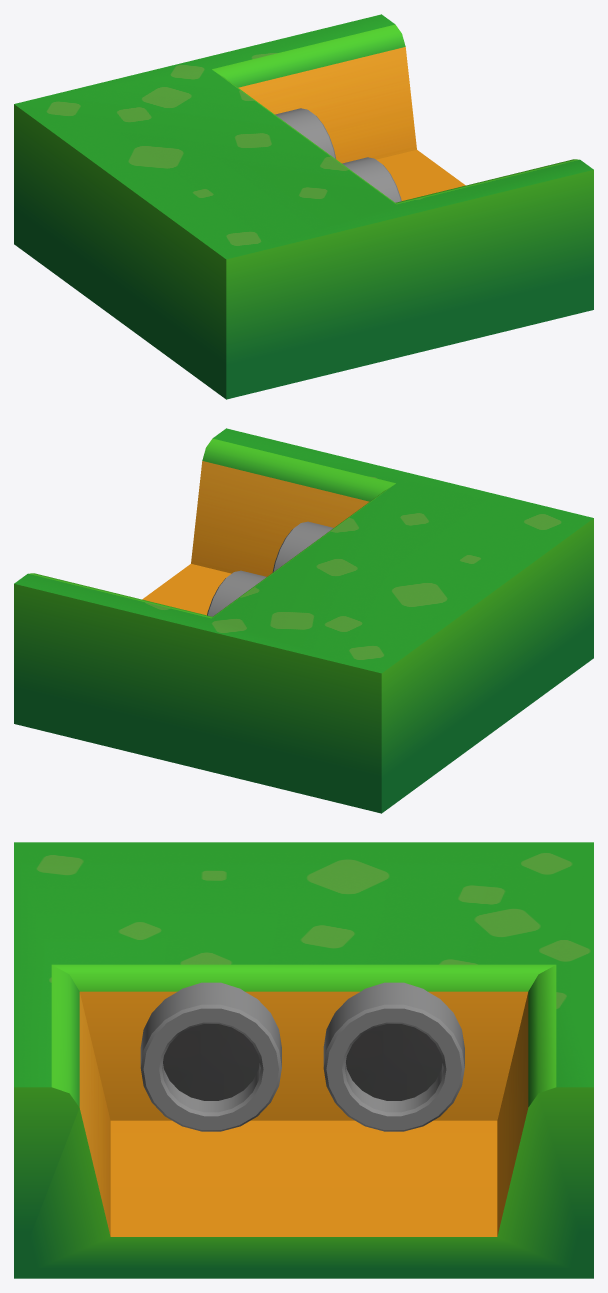
File: RiverTile_4_1.glb
3 views of the same model, one above another, from view 1: azimuth 30°, elevation 25°; view 2: azimuth 150°, elevation 25°; view 3: azimuth 270°, elevation 25° (orthographic). The views are drawn at different scales.
Parts seen in each view (by area): view 1: RiverTile_4_1; view 2: RiverTile_4_1; view 3: RiverTile_4_1.
Part boxes in pixels (x1,y1,x2,y2): RiverTile_4_1: [14, 14, 593, 399]; RiverTile_4_1: [14, 428, 593, 813]; RiverTile_4_1: [14, 842, 593, 1278].
Bounding box in the file's own units: 4 × 1.46 × 4.
Materials: 5 (5 with a texture image).
